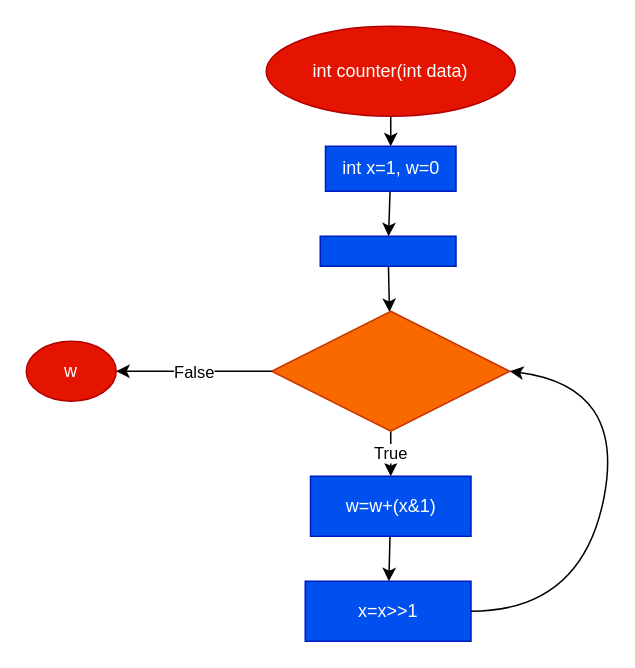
Some shapes in this 635 by 668 pixel diagram are drawn without their labels. The box of each missing label's shape, as (x1, y1, x2, y2) in pixels:
x=data: (319, 235, 456, 266)
x>0: (270, 310, 510, 431)
